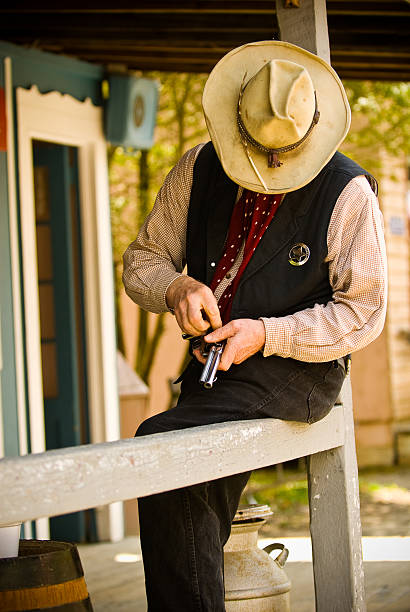gun: (180, 332, 228, 390)
